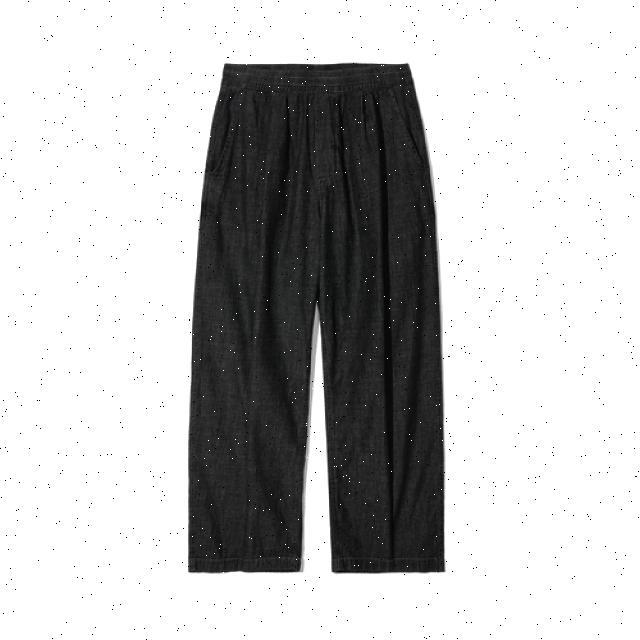dress: (165, 16, 488, 611)
